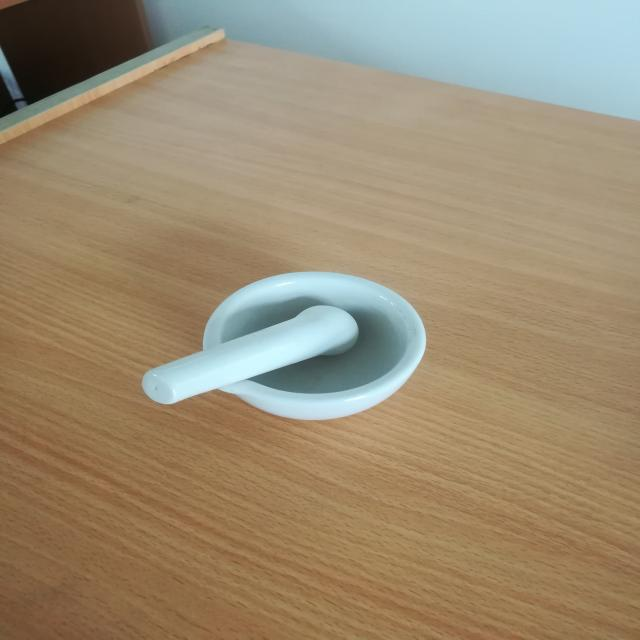Porcelain_Mortar Pestle: (104, 230, 482, 460)
